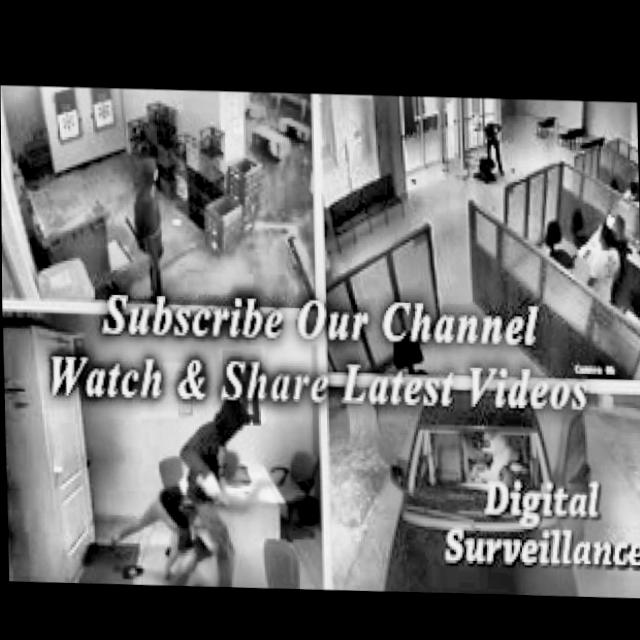burglary: (115, 151, 178, 301)
